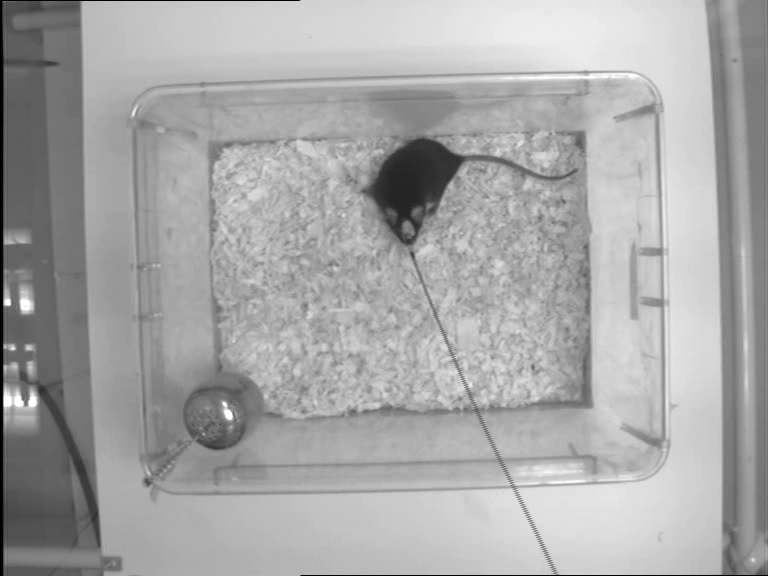mice: (358, 137, 579, 242)
